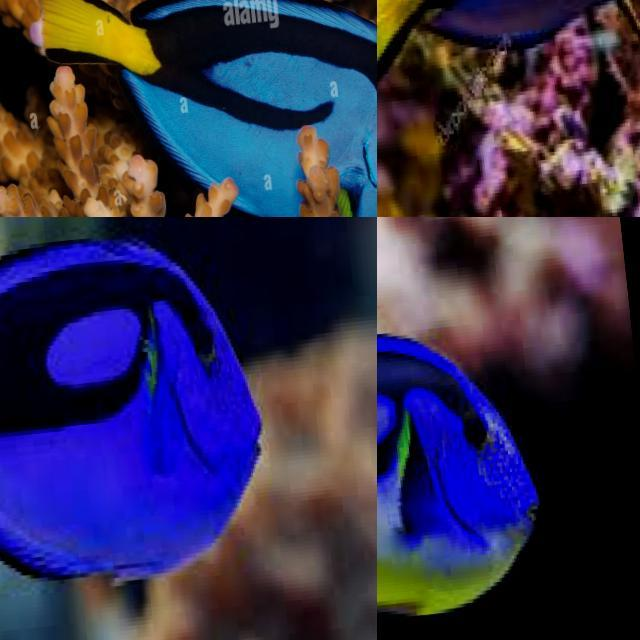BlueTang: (0, 240, 269, 588), (11, 0, 377, 217), (377, 335, 543, 621)
